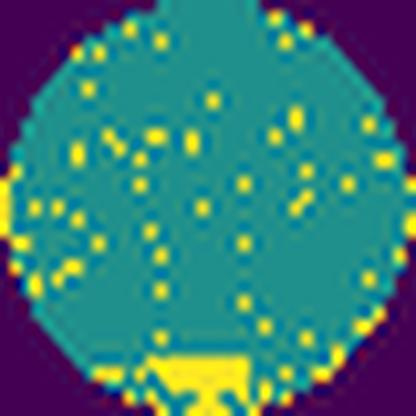Loc: (131, 354, 248, 414)
